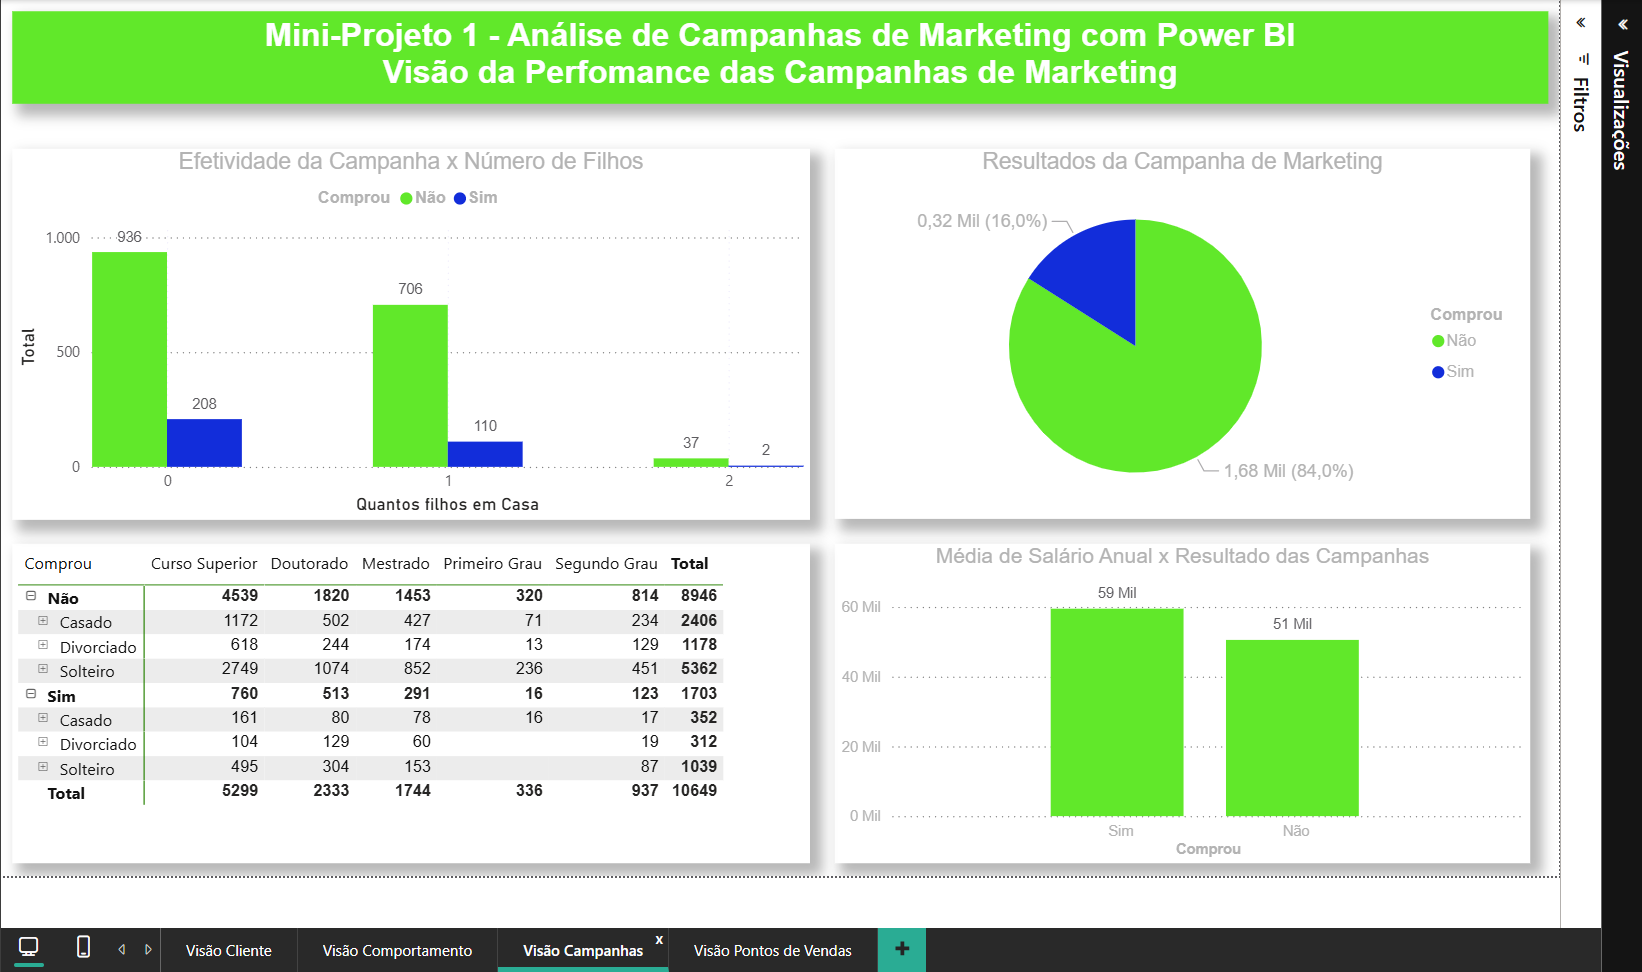

The page's visual inventory and layout, read from the dashboard file:
{"tool":"powerbi","page":{"name":"Visão Campanhas","canvas":[1280,720],"ordinal":2},"visuals":[{"type":"pieChart","title":"Resultados da Campanha de Marketing","fields":{"Category":["Dados_Marketing.Comprou"],"Y":["CountNonNull(Dados_Marketing.ID)"]},"box":[685,122.5,571.2,303.8],"z":0},{"type":"textbox","box":[9.4,9.4,1261.5,76.1],"z":1},{"type":"clusteredColumnChart","title":"Média de Salário Anual x Resultado das Campanhas","fields":{"Category":["Dados_Marketing.Comprou"],"Y":["Avg(Dados_Marketing.Salario Anual)"]},"box":[685,446.2,571.2,262.5],"z":2},{"type":"pivotTable","fields":{"Rows":["Dados_Marketing.Comprou","Dados_Marketing.Estado Civil","Dados_Marketing.Pais"],"Values":["Sum(Dados_Marketing.Numero Visitas WebSite Mes)"],"Columns":["Dados_Marketing.Escolaridade"]},"box":[8.8,446.2,655,262.5],"z":3},{"type":"clusteredColumnChart","title":"Efetividade da Campanha x Número de Filhos","fields":{"Category":["Dados_Marketing.Filhos em Casa"],"Series":["Dados_Marketing.Comprou"],"Y":["CountNonNull(Dados_Marketing.Filhos em Casa)"]},"box":[8.8,122.5,655,305],"z":4}]}

Visuals, with their boxes on the page's 1280x720 design canvas (x1, y1, x2, y2). These are canvas units, not pixel positions in the 1642x972 screenshot, which may show the page scaled, cropped or inside an application window:
"Resultados da Campanha de Marketing" pieChart: <bbox>685, 122, 1256, 426</bbox>
textbox: <bbox>9, 9, 1271, 86</bbox>
"Média de Salário Anual x Resultado das Campanhas" clusteredColumnChart: <bbox>685, 446, 1256, 709</bbox>
pivotTable - Dados_Marketing.Comprou x Dados_Marketing.Estado Civil: <bbox>9, 446, 664, 709</bbox>
"Efetividade da Campanha x Número de Filhos" clusteredColumnChart: <bbox>9, 122, 664, 428</bbox>
